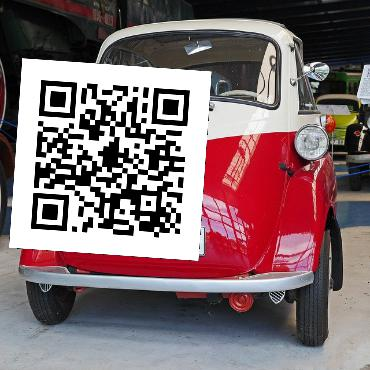qr_code: (9, 58, 211, 260)
